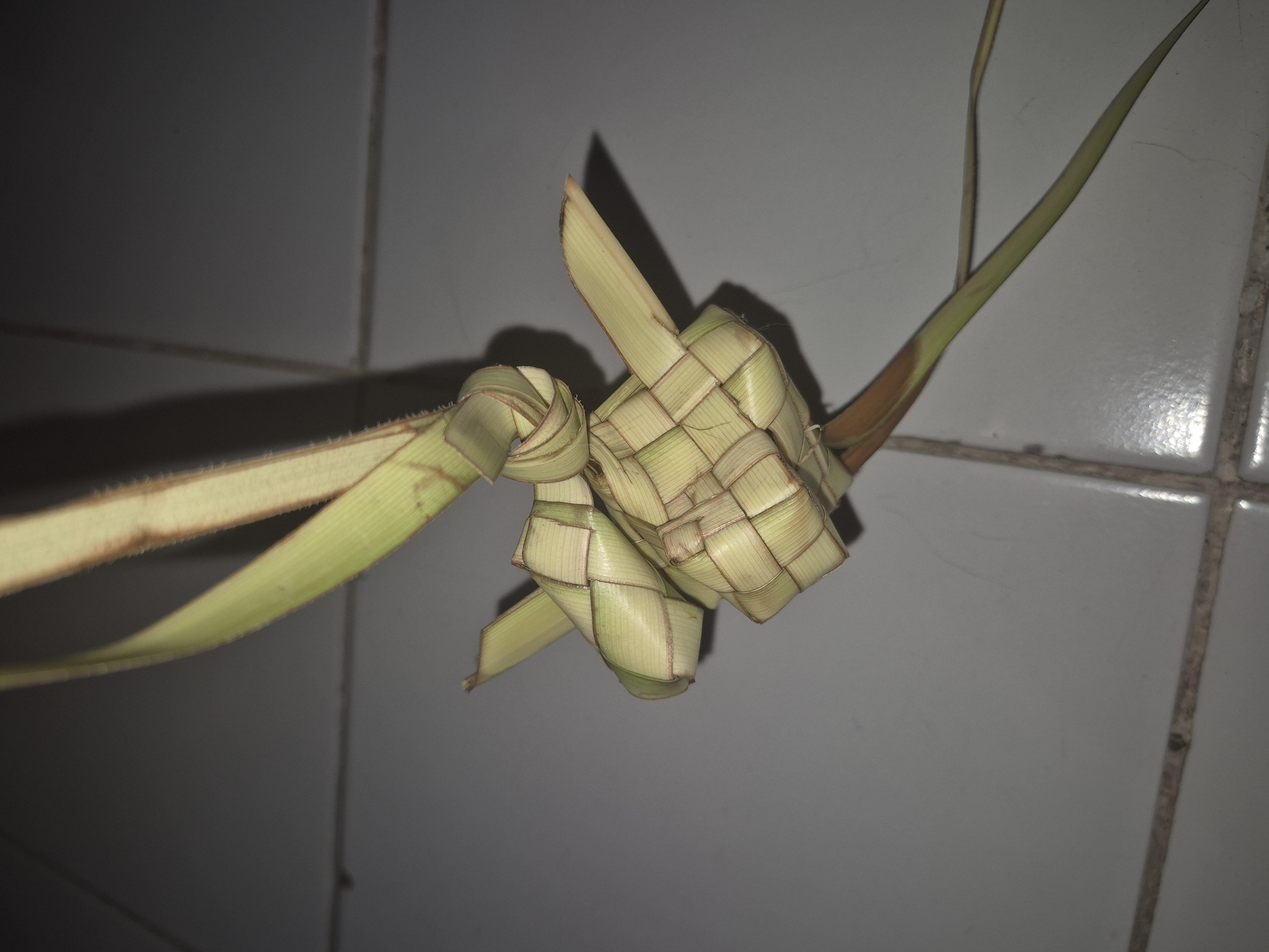Tipat Gong: (438, 441, 861, 638)
